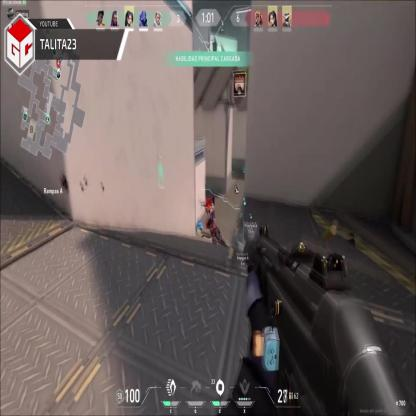enemy: (204, 196, 216, 240)
enemy_head: (209, 196, 213, 206)
